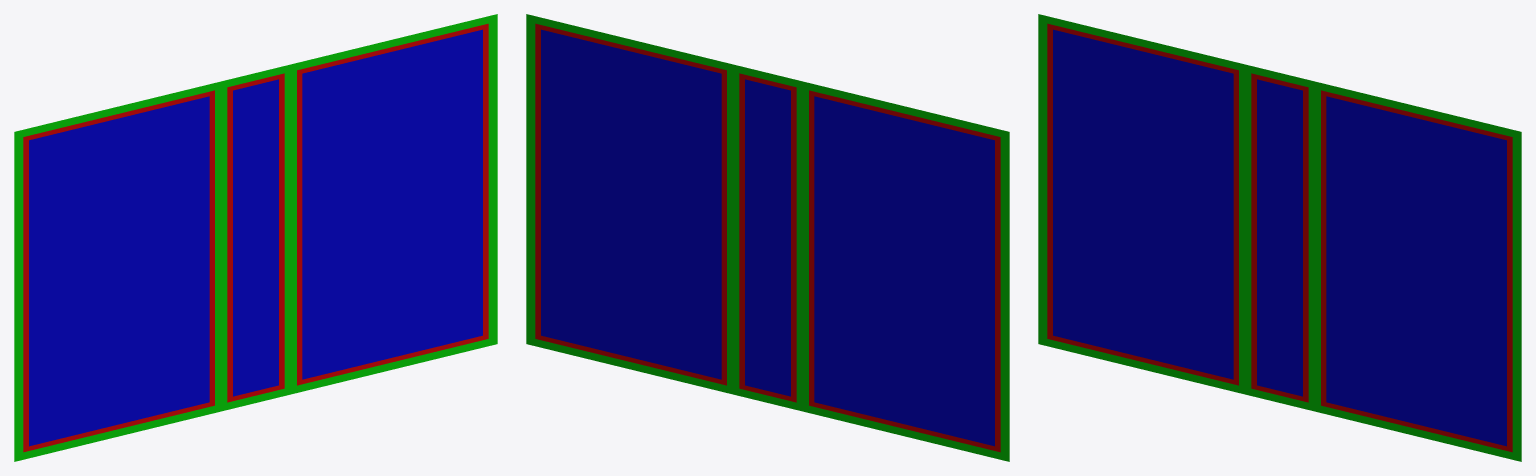
Rendered from SM_Fresco_FrameWideB4m.fbx.
3 renders of one model, left to right at view 1: azimuth 30°, elevation 25°; view 2: azimuth 150°, elevation 25°; view 3: azimuth 330°, elevation 25°, orthographic.
Visible parts, largest first — view 1: SM_Fresco_FrameWideB4m; view 2: SM_Fresco_FrameWideB4m; view 3: SM_Fresco_FrameWideB4m.
Boxes of the visible parts, x1,y1,x2,y2 form: SM_Fresco_FrameWideB4m: (14, 14, 497, 461); SM_Fresco_FrameWideB4m: (526, 14, 1009, 461); SM_Fresco_FrameWideB4m: (1038, 14, 1521, 461).
Size of the model in its own units: 360 by 235 by 4.84e-06.
